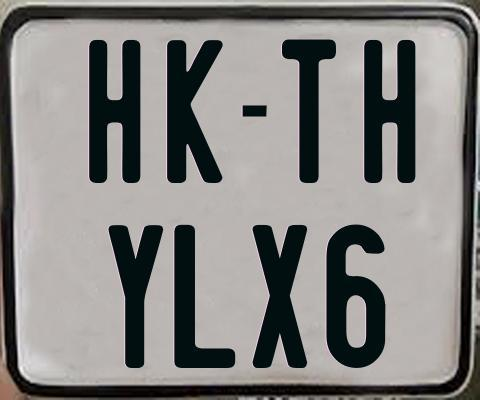6: (324, 223, 386, 370)
H: (363, 37, 420, 186), (89, 37, 143, 180)
K: (164, 40, 220, 187)
L: (174, 223, 235, 369)
T: (280, 37, 335, 187)
X: (250, 223, 311, 370)
Y: (108, 223, 163, 368)
